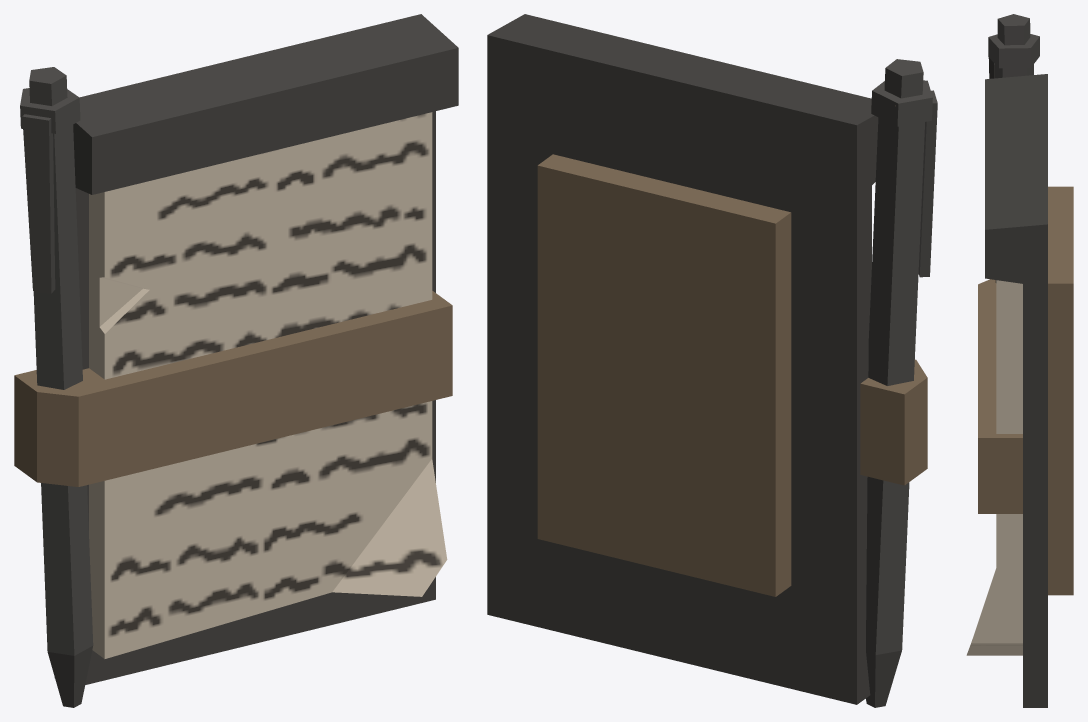
The model's file is Notepad_02_SM.FBX.
3 views of the same model, side by side, from view 1: azimuth 30°, elevation 25°; view 2: azimuth 150°, elevation 25°; view 3: azimuth 270°, elevation 25° (orthographic). The views are drawn at different scales.
Parts seen in each view (by area): view 1: Notepad_02_SM; view 2: Notepad_02_SM; view 3: Notepad_02_SM.
Part boxes in pixels (x1,y1,x2,y2): Notepad_02_SM: (14, 14, 458, 707); Notepad_02_SM: (487, 14, 937, 707); Notepad_02_SM: (966, 14, 1073, 707).
Size of what is drawn, in the model's own units: 8.03 by 2.09 by 11.56.
